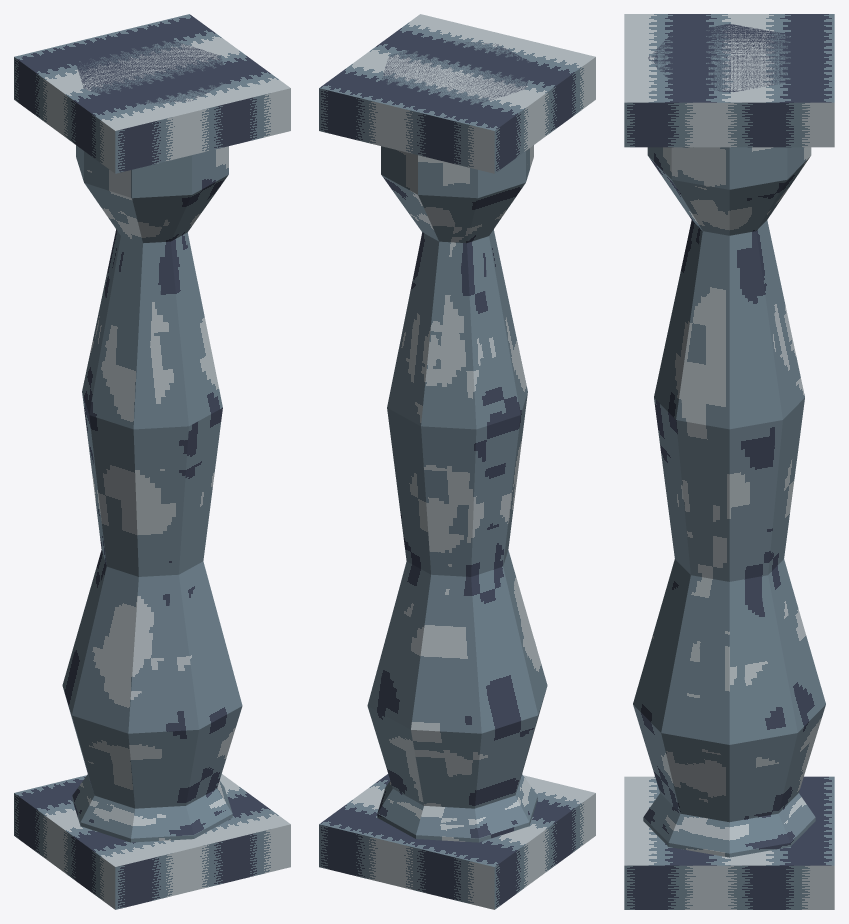
The model's file is ORN-12_Remate_de_barandilla_c.gltf.
3 views of the same model, side by side, from view 1: azimuth 30°, elevation 25°; view 2: azimuth 150°, elevation 25°; view 3: azimuth 270°, elevation 25° (orthographic). The views are drawn at different scales.
Visible parts, largest first — view 1: ORN-12_Remate_de_barandilla_c-convcol; view 2: ORN-12_Remate_de_barandilla_c-convcol; view 3: ORN-12_Remate_de_barandilla_c-convcol.
Boxes of the visible parts, x1=… form: ORN-12_Remate_de_barandilla_c-convcol: x1=14, y1=14, x2=290, y2=909; ORN-12_Remate_de_barandilla_c-convcol: x1=319, y1=14, x2=595, y2=909; ORN-12_Remate_de_barandilla_c-convcol: x1=624, y1=14, x2=834, y2=909.
Bounding box in the file's own units: 0.25 × 1.06 × 0.25.
1 material, 1 textured.
